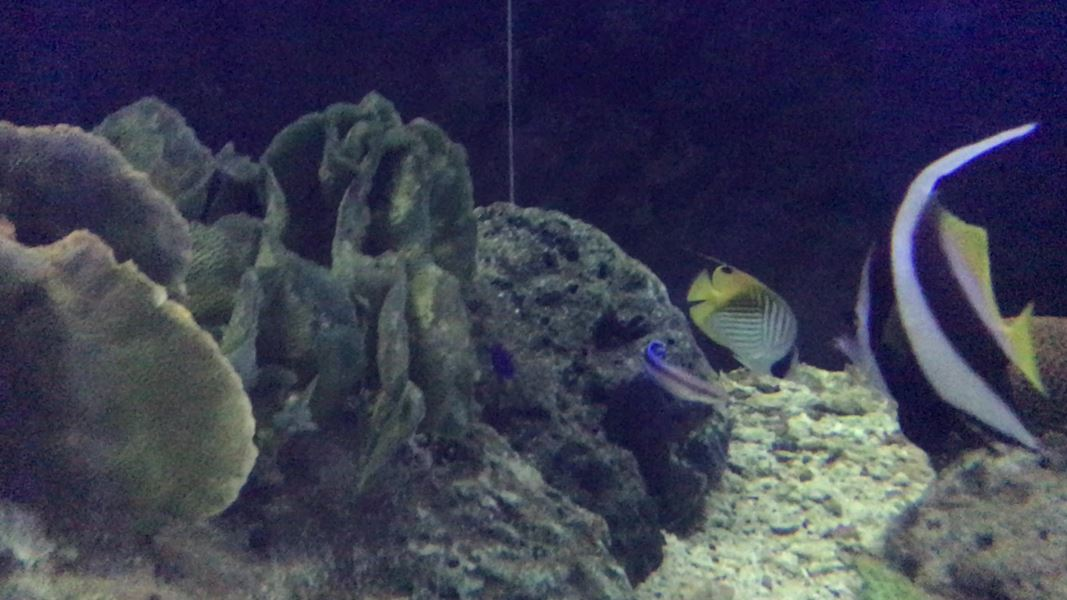Bluesteak cleaner wrasse: (636, 331, 744, 424)
